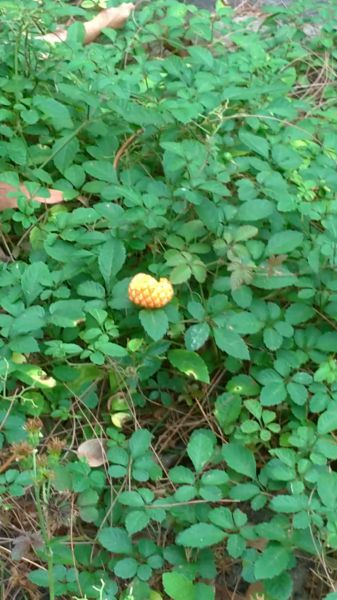eggs: (123, 265, 177, 314)
